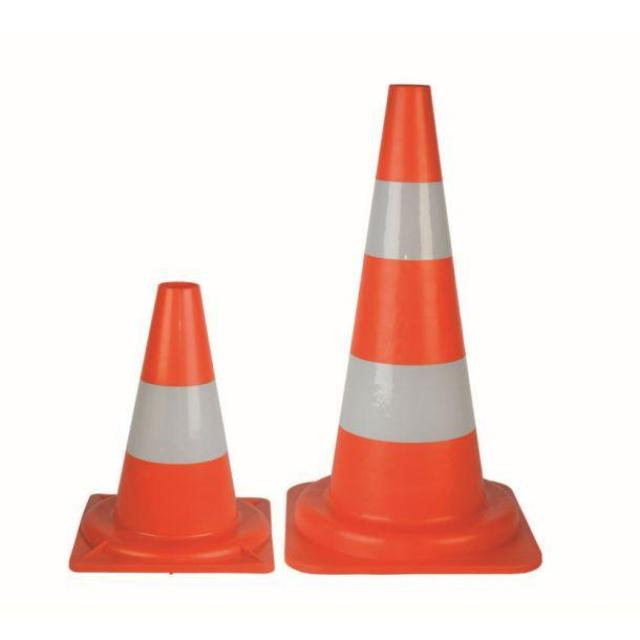cone: (287, 106, 528, 569)
